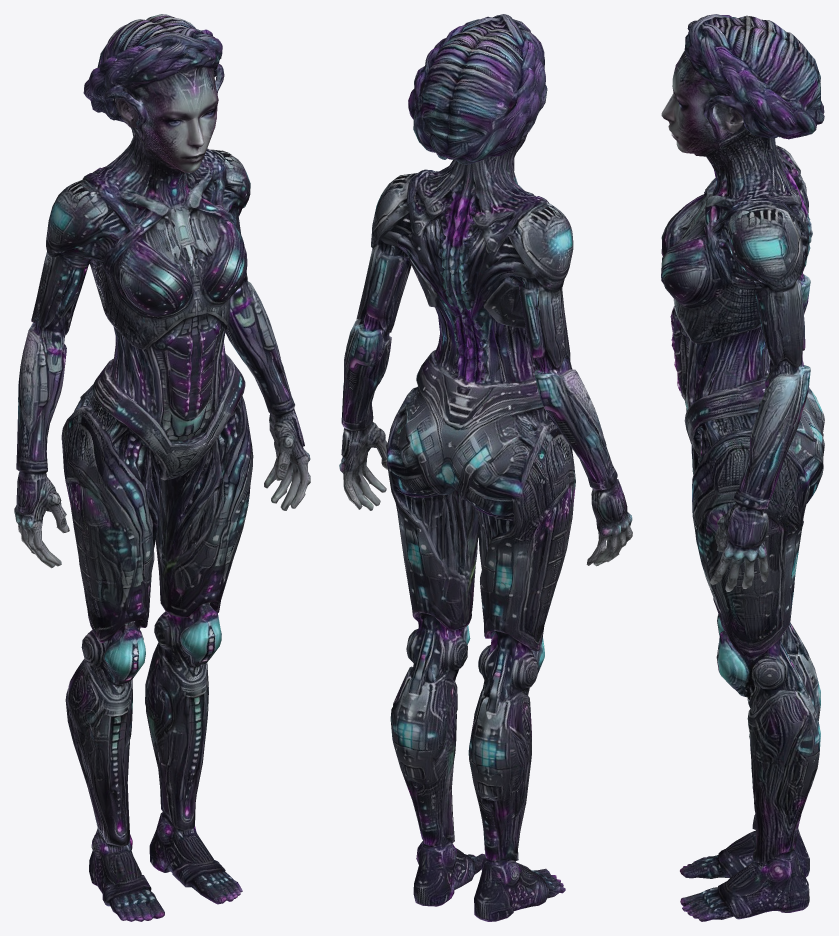
Rendered from helix.glb.
3 views of the same model, side by side, from view 1: azimuth 30°, elevation 25°; view 2: azimuth 150°, elevation 25°; view 3: azimuth 270°, elevation 25° (orthographic).
Bounding box in the file's own units: 0.6447 × 1.9 × 0.3224.
Materials: 1 (1 with a texture image).
